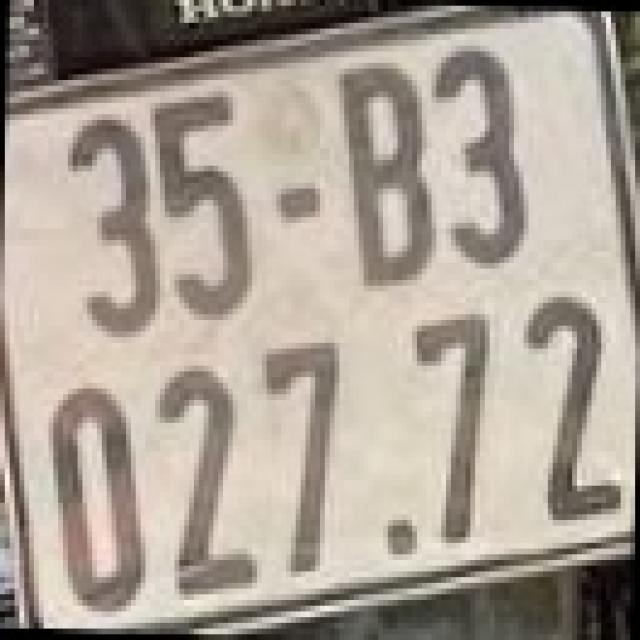0: (48, 377, 150, 612)
2: (519, 286, 630, 526), (155, 360, 262, 594)
3: (432, 40, 534, 269), (58, 109, 160, 337)
5: (150, 86, 257, 320)
7: (408, 308, 500, 543), (262, 337, 344, 577)
B: (330, 57, 441, 292)
